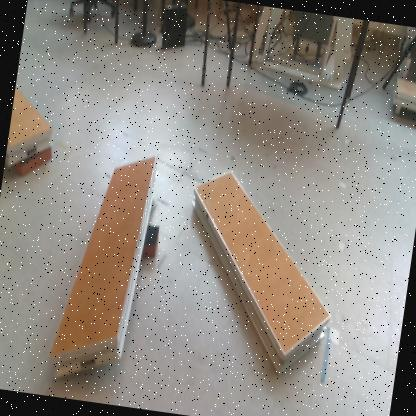Stairs: (191, 169, 332, 381), (48, 156, 159, 381), (6, 83, 52, 167)
